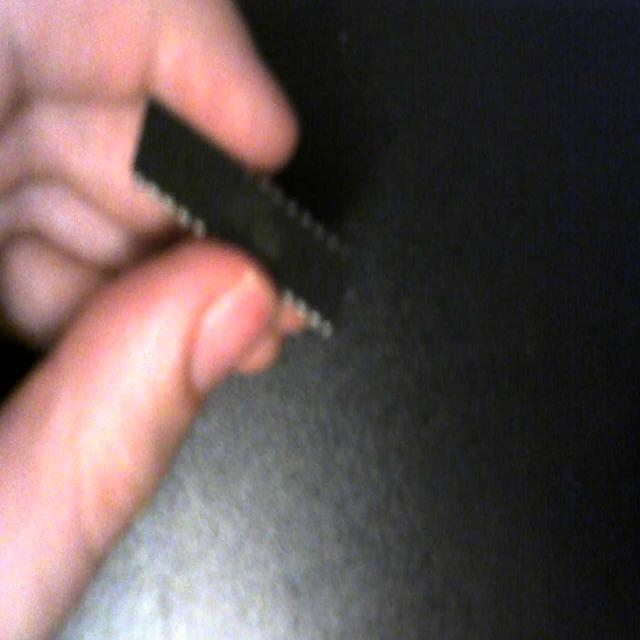atmega: (126, 69, 350, 354)
